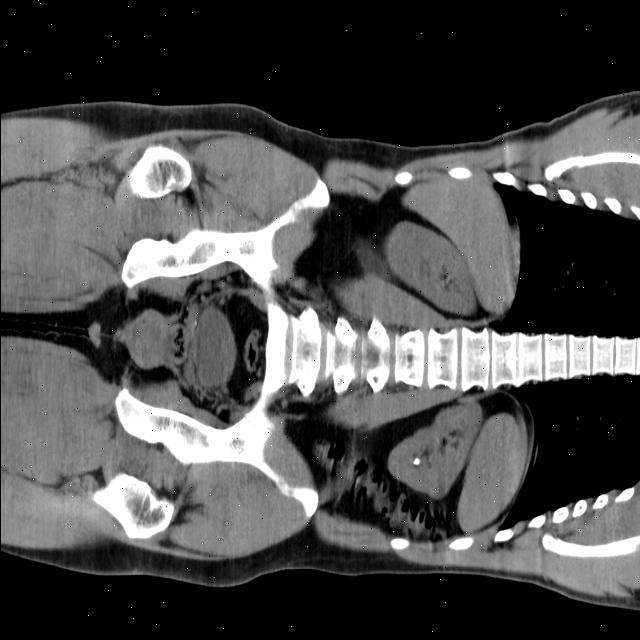kidneystone: (411, 456, 420, 467)
